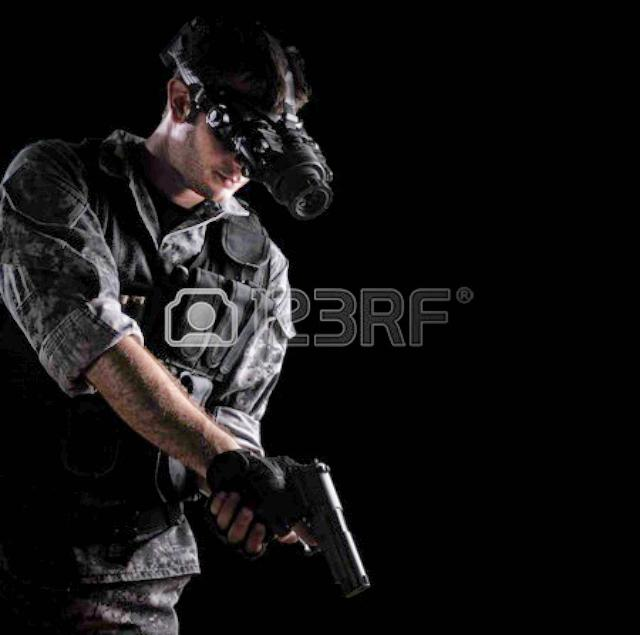pistol: (240, 442, 392, 594)
